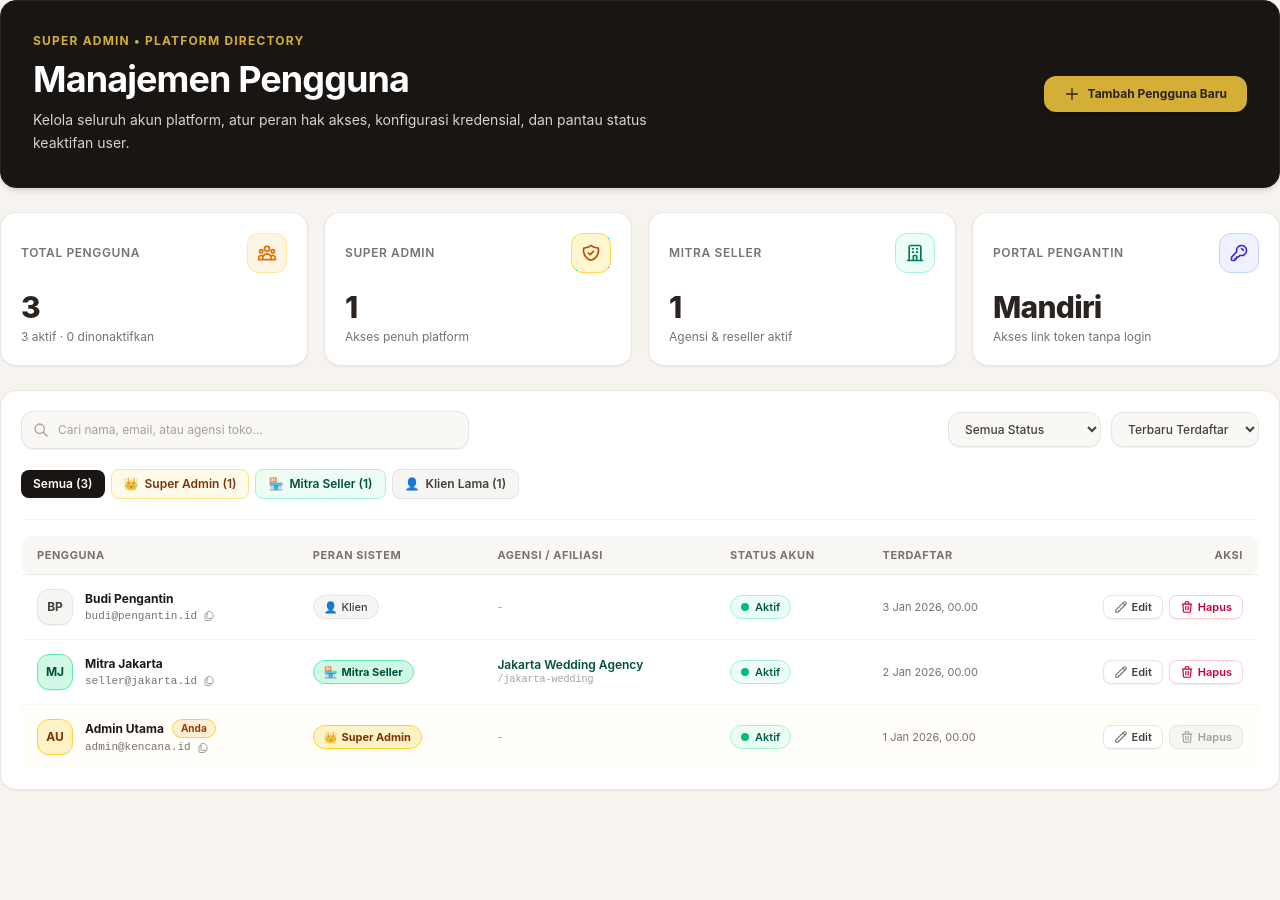
it: UserManager Component (Super Admin) › opens edit modal with prefilled data when clicking edit button
Click the button "Edit" in the row of "BP" at {"x": 1133, "y": 607}, box 1102,595 -> 1163,620
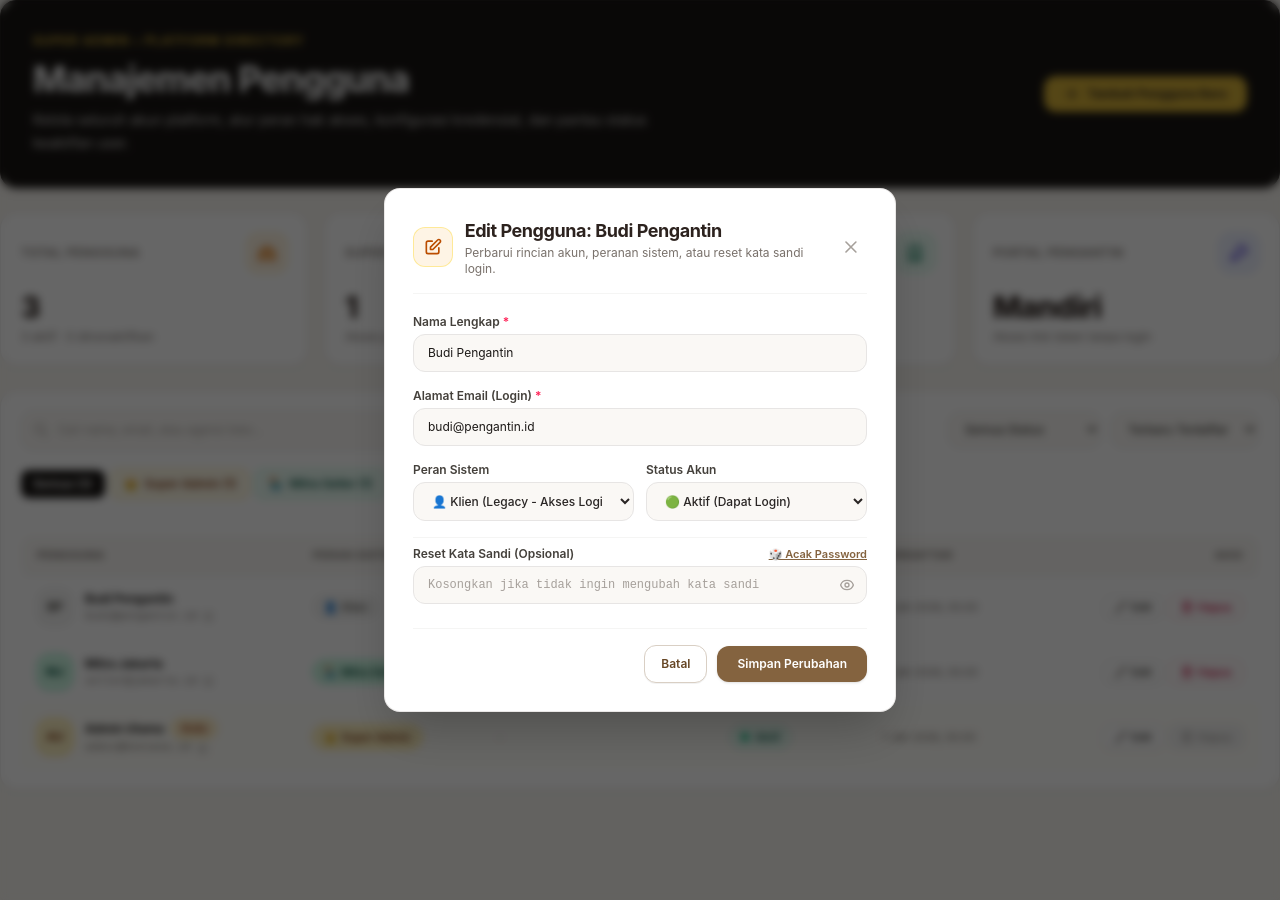
Expected: the dialog is shown
Expected: the field showing "Budi Pengantin" is shown, 413,334 -> 867,372
Expected: the field showing "budi@pengantin.id" is shown, 413,408 -> 867,446
